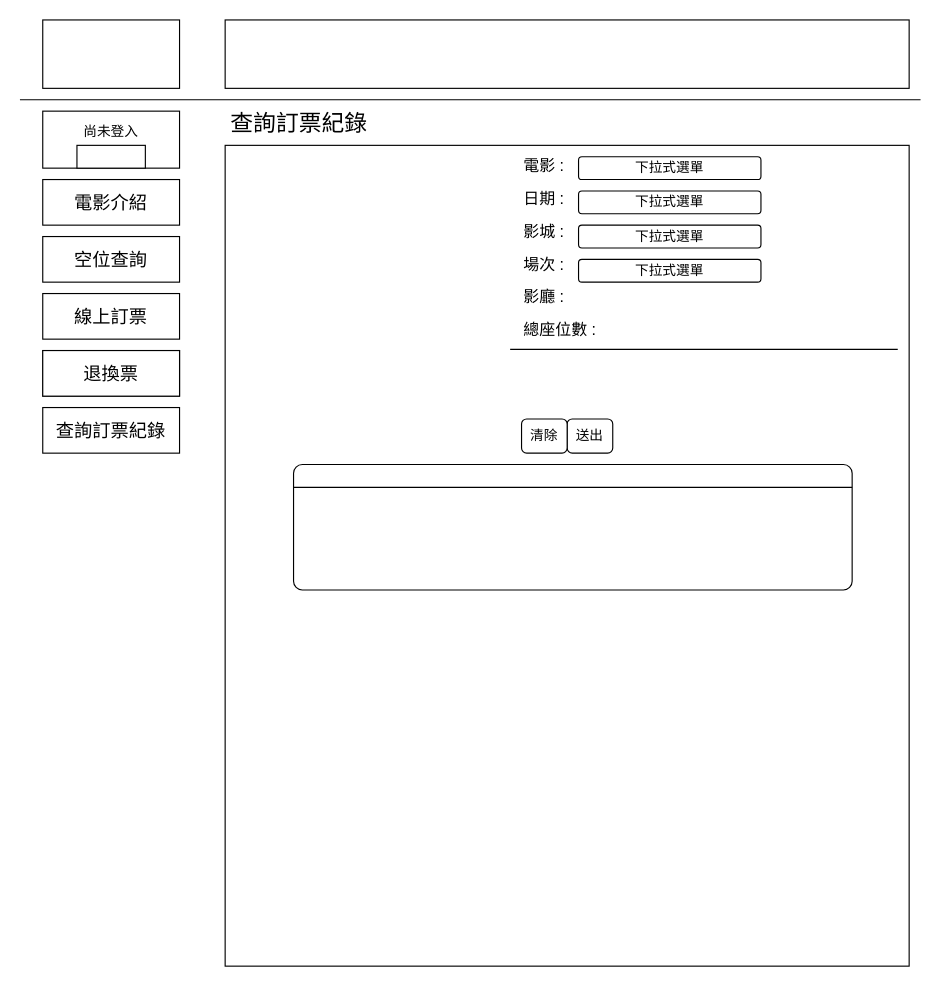
The diagram is 942 pixels wide and 986 high, and some of its shapes have lost their labels. Here are the shapes that lost their labels. From the top down, the box of each, then its label:
(42, 19, 180, 88): 電影院 訂票系統
(224, 19, 909, 88): 影城名稱
(76, 144, 145, 168): 登入/註冊
(292, 463, 852, 590): 交易時間 : 2020-1-10 15:03:56
